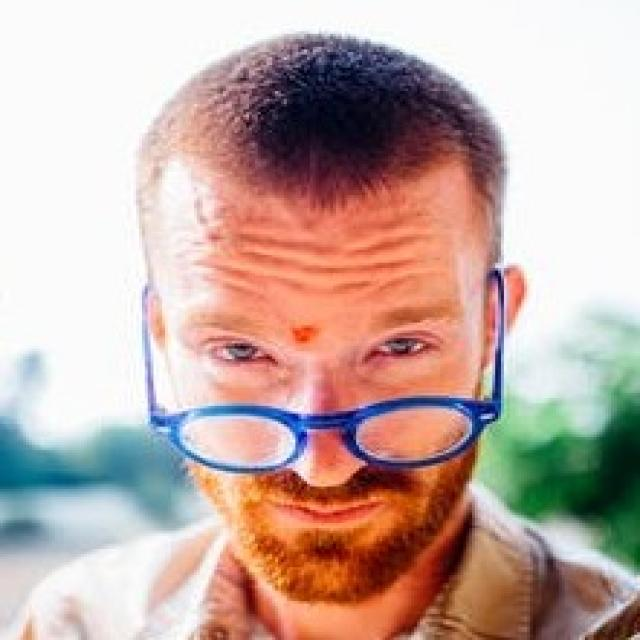Wrinkles: (245, 237, 330, 252), (242, 252, 300, 267), (235, 272, 296, 284), (377, 235, 429, 249), (329, 261, 409, 268), (388, 276, 436, 285), (190, 263, 235, 272), (372, 285, 388, 294), (351, 249, 377, 251), (308, 268, 329, 269)
